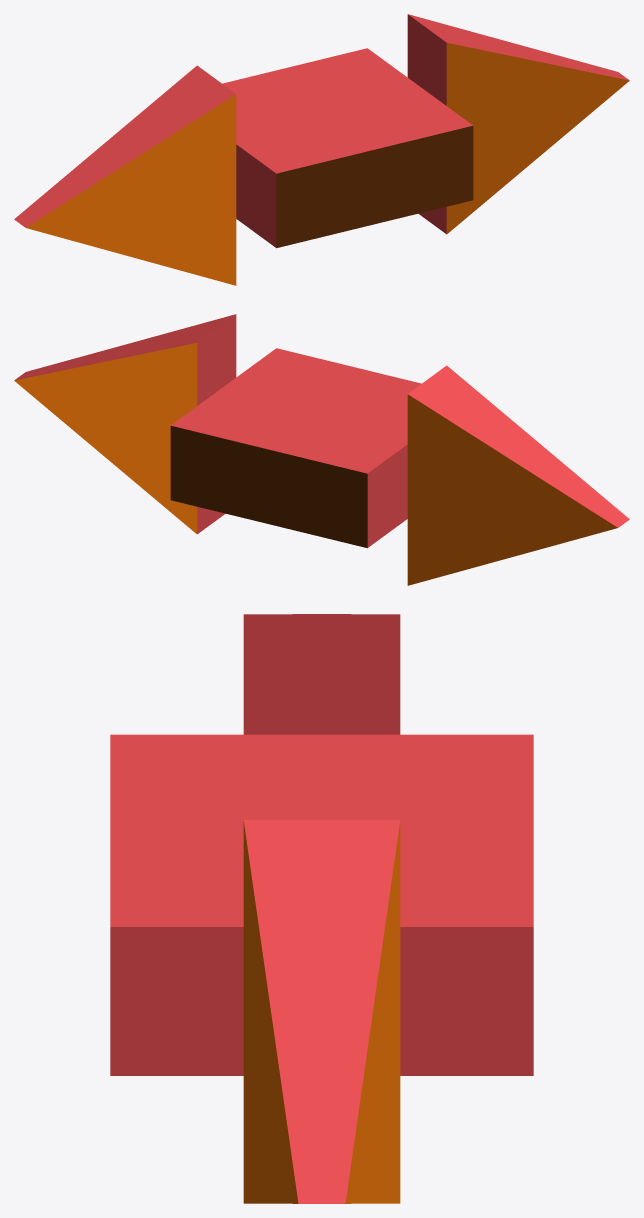
3 views of the same model, one above another, from view 1: azimuth 30°, elevation 25°; view 2: azimuth 150°, elevation 25°; view 3: azimuth 270°, elevation 25° (orthographic). The views are drawn at different scales.
Parts seen in each view (by area): view 1: ss3d_52_cybertog; view 2: ss3d_52_cybertog; view 3: ss3d_52_cybertog.
Boxes of the visible parts, x1,y1,x2,y2 form: ss3d_52_cybertog: (14, 14, 629, 285); ss3d_52_cybertog: (14, 314, 629, 585); ss3d_52_cybertog: (110, 614, 533, 1203).
Bounding box in the file's own units: 1.39 × 0.4219 × 0.4219.
Materials: 1 (1 with a texture image).
